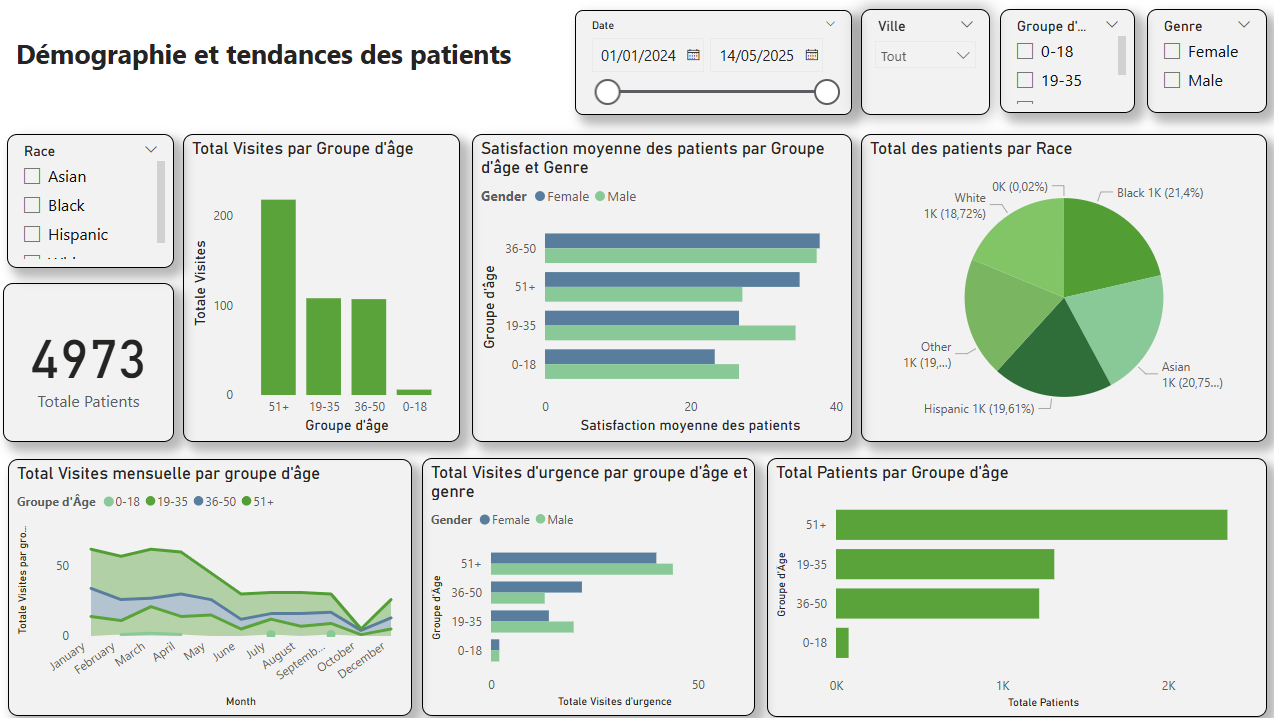

The dashboard page shown, as its layout file describes it:
{"tool":"powerbi","page":{"name":"Demographie","canvas":[1280,720],"ordinal":7},"visuals":[{"type":"barChart","title":"Total Patients par Groupe d''âge","fields":{"Category":["patients.Age Group"],"Y":["patients.Total Patients"]},"box":[769.2,460.3,499.7,258.9],"z":0},{"type":"stackedAreaChart","title":"Total Visites mensuelle par groupe d''âge","fields":{"Category":["visits.Date of Visit.Variation.Date Hierarchy.Month","visits.Date of Visit.Variation.Date Hierarchy.Day"],"Y":["visits.Total Visits by Age Group"],"Series":["patients.Age Group"]},"box":[9.6,461.1,404.8,256.6],"z":1000},{"type":"pieChart","title":"Total des patients par Race","fields":{"Category":["patients.Race"],"Y":["patients.Total Patients"]},"box":[863.1,136.3,405.8,307.4],"z":2000},{"type":"clusteredBarChart","title":"Satisfaction moyenne des patients par Groupe d''âge et Genre","fields":{"Category":["patients.Age Group"],"Y":["visits.Average Patient Satisfaction"],"Series":["patients.Gender"]},"box":[473.9,136.3,380.1,307.4],"z":3000},{"type":"clusteredColumnChart","title":"Total Visites par Groupe d''âge","fields":{"Y":["visits.Total Visits"],"Category":["patients.Age Group"]},"box":[184.7,136.3,277.1,307.4],"z":4000},{"type":"card","fields":{"Values":["patients.Total Patients"]},"box":[4.5,284.7,171.1,159],"z":5000},{"type":"clusteredBarChart","title":"Total Visites d''urgence par groupe d''âge et genre","fields":{"Y":["visits.Total Emergency Visits"],"Category":["patients.Age Group"],"Series":["patients.Gender"]},"box":[424,460.3,333.1,257.4],"z":6000},{"type":"slicer","fields":{"Values":["visits.Date of Visit"]},"box":[576.9,12.1,277.1,104.5],"z":7000},{"type":"slicer","fields":{"Values":["patients.Gender"]},"box":[1149.3,10.6,119.6,104.5],"z":8000},{"type":"slicer","fields":{"Values":["patients.Age Group"]},"box":[1002.4,10.6,134.8,104.5],"z":9000},{"type":"slicer","fields":{"Values":["patients.Race"]},"box":[9.1,136.3,166.6,133.3],"z":10000},{"type":"textbox","box":[9.1,15.1,513.3,99.9],"z":11000},{"type":"slicer","fields":{"Values":["cities.City"]},"box":[863.1,10.6,128.7,106],"z":12000}]}

Visuals, with their boxes in screenshot pixels (x1, y1, x2, y2), scaled from the page's 1280x720 canvas onto the 1274x718 screenshot:
"Total Patients par Groupe d''âge" barChart: bbox=(766, 459, 1263, 717)
"Total Visites mensuelle par groupe d''âge" stackedAreaChart: bbox=(10, 460, 412, 716)
"Total des patients par Race" pieChart: bbox=(859, 136, 1263, 442)
"Satisfaction moyenne des patients par Groupe d''âge et Genre" clusteredBarChart: bbox=(472, 136, 850, 442)
"Total Visites par Groupe d''âge" clusteredColumnChart: bbox=(184, 136, 460, 442)
card - patients.Total Patients: bbox=(4, 284, 175, 442)
"Total Visites d''urgence par groupe d''âge et genre" clusteredBarChart: bbox=(422, 459, 754, 716)
slicer - visits.Date of Visit: bbox=(574, 12, 850, 116)
slicer - patients.Gender: bbox=(1144, 11, 1263, 115)
slicer - patients.Age Group: bbox=(998, 11, 1132, 115)
slicer - patients.Race: bbox=(9, 136, 175, 269)
textbox: bbox=(9, 15, 520, 115)
slicer - cities.City: bbox=(859, 11, 987, 116)
